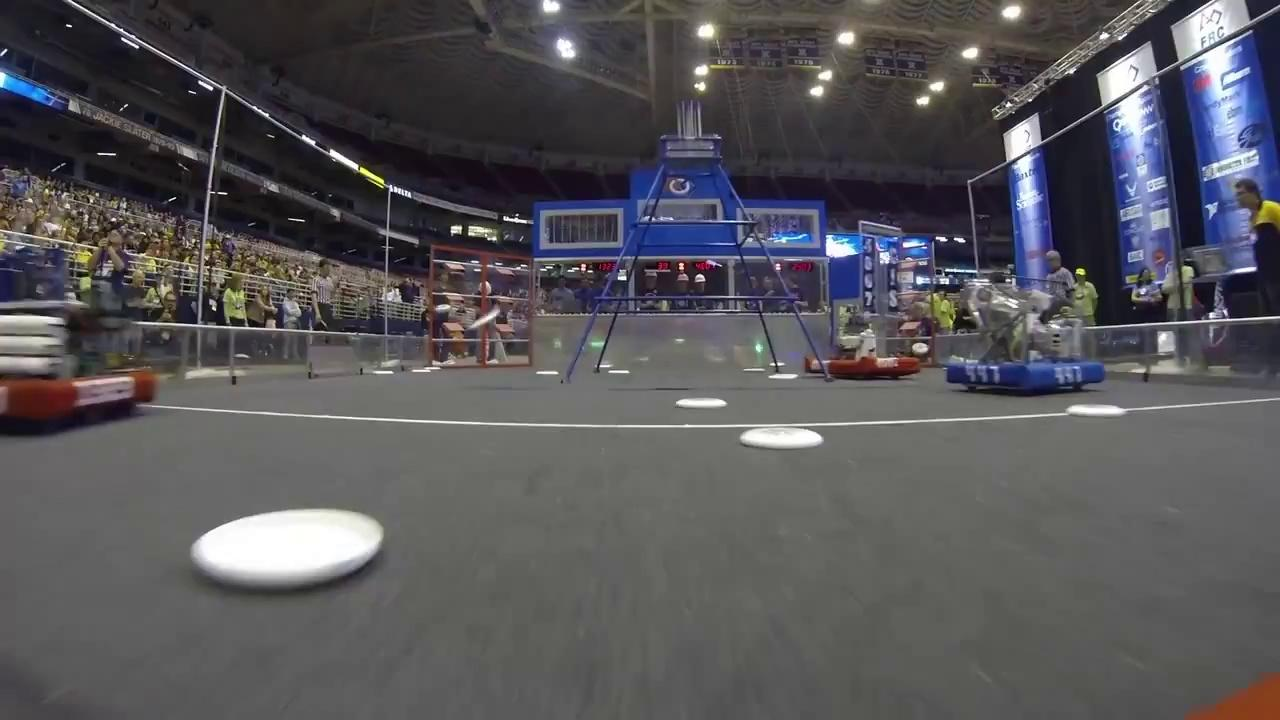robot: (0, 250, 165, 432), (943, 269, 1111, 401), (801, 215, 928, 383)
